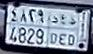2: (27, 8, 35, 45)
4: (9, 8, 17, 43)
8: (18, 9, 26, 43)
9: (36, 9, 44, 46)
D: (50, 13, 58, 46), (68, 16, 76, 46)
E: (60, 14, 67, 47)
